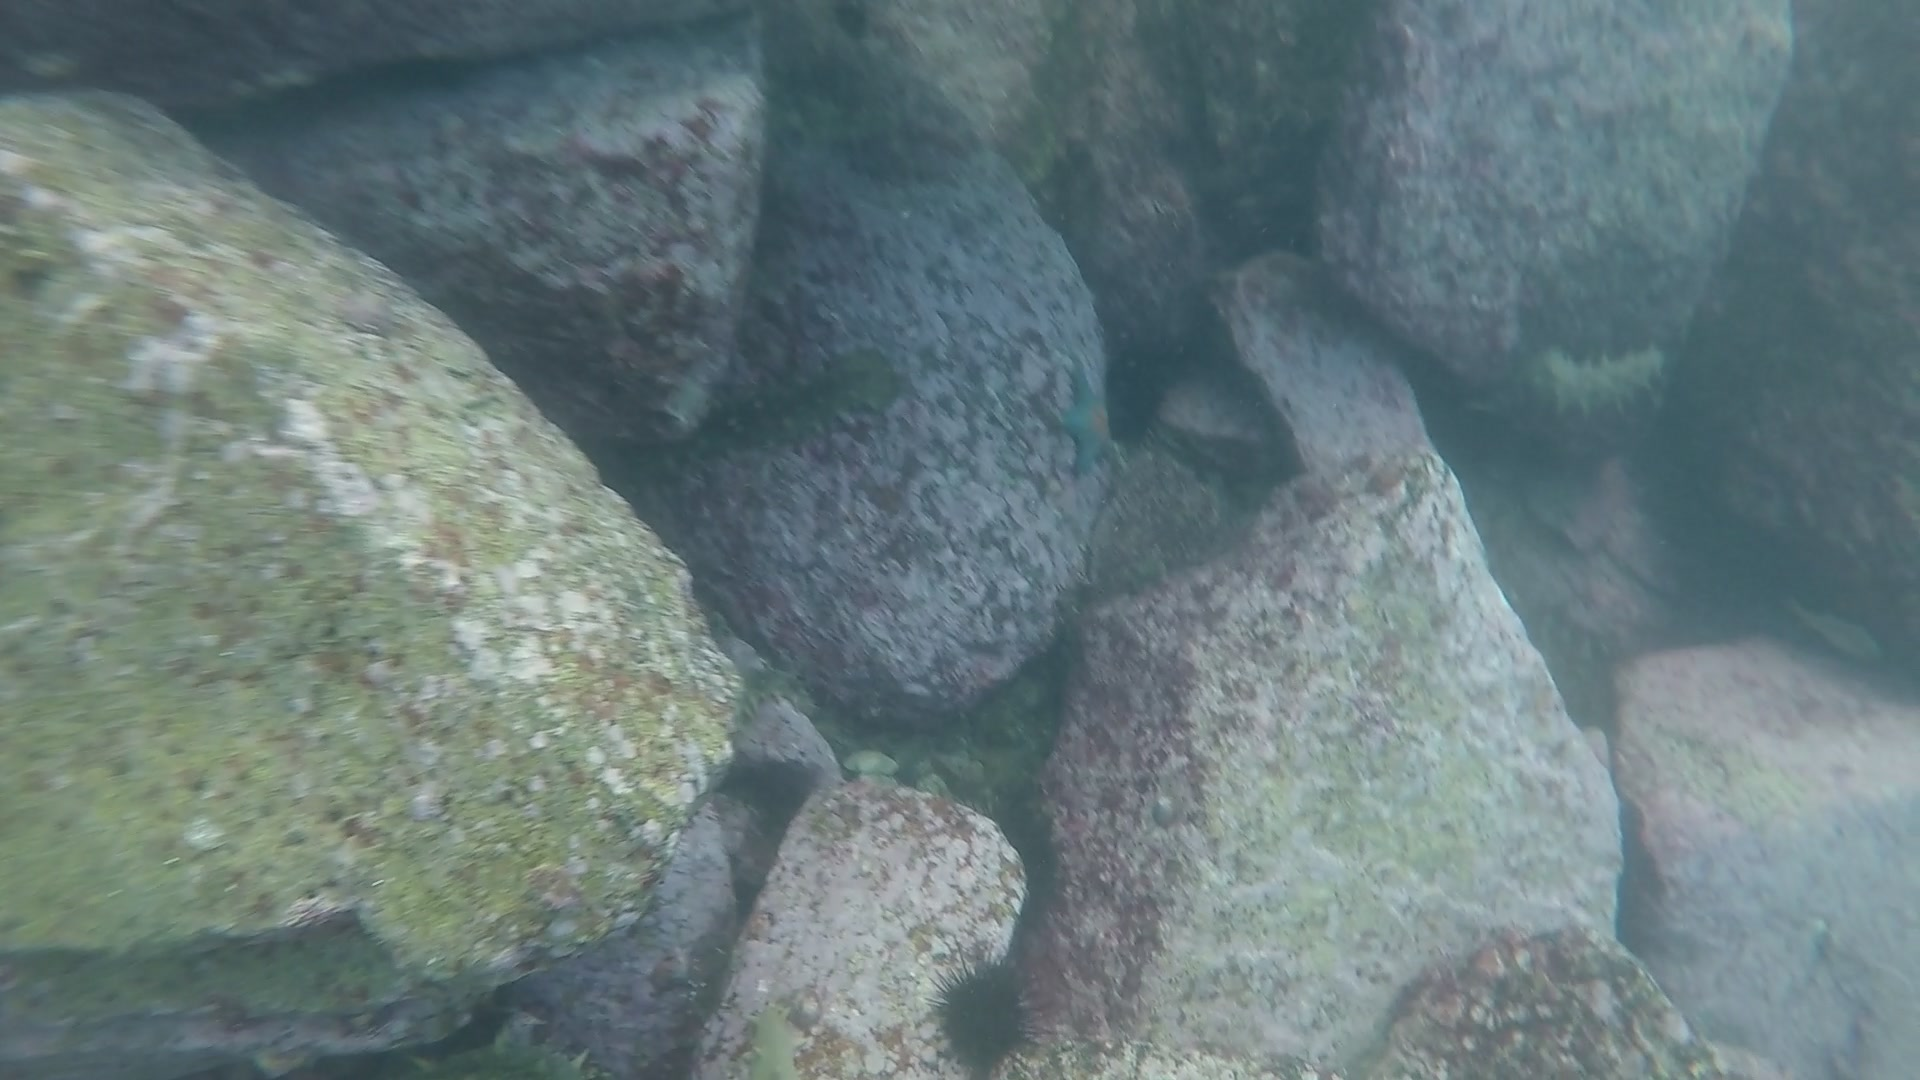echinus: (928, 953, 1054, 1076)
holothurian: (624, 349, 899, 483), (344, 1017, 624, 1080), (1477, 353, 1672, 425), (729, 667, 820, 723)
starfish: (1051, 375, 1120, 477)
